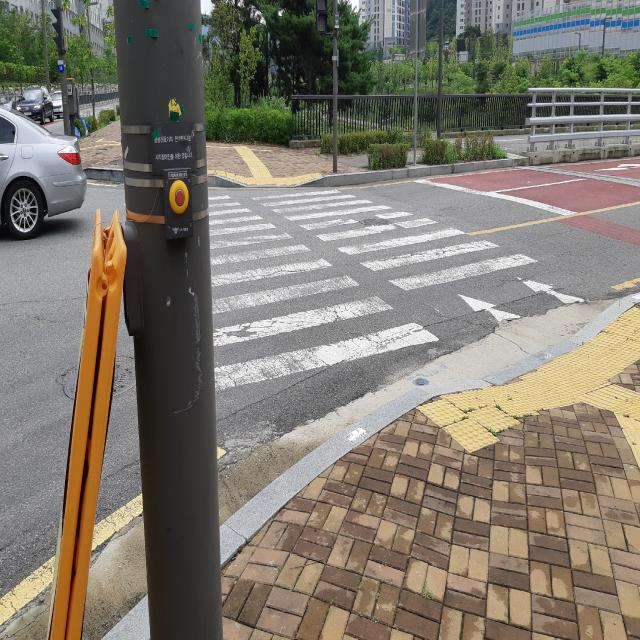횡단보도: (122, 183, 588, 394)
